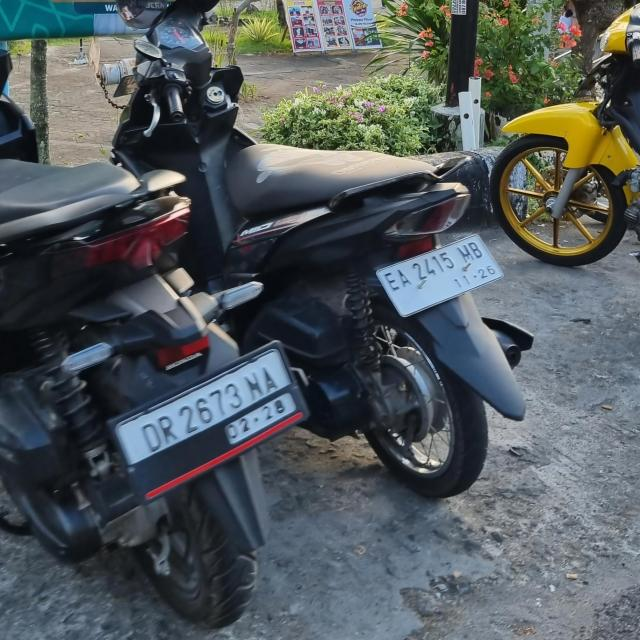plate: (113, 346, 298, 472), (377, 234, 503, 316)
